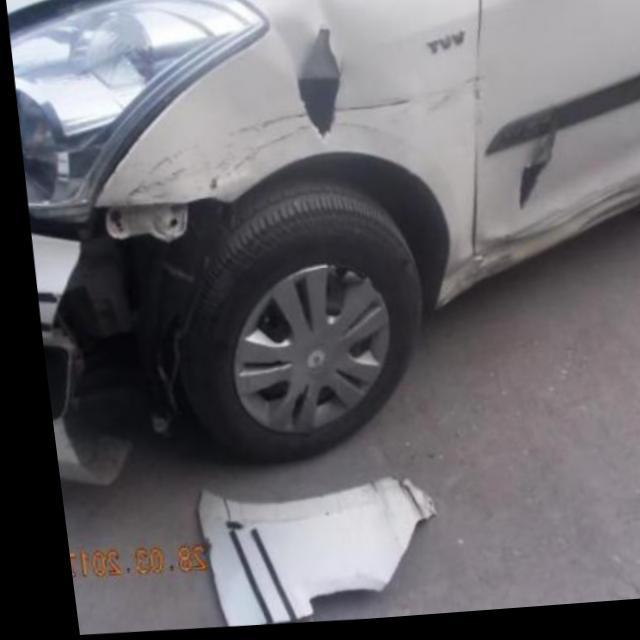crack: (290, 27, 345, 147), (509, 123, 558, 224)
no part: (22, 198, 213, 486)
rub: (115, 100, 405, 204)
